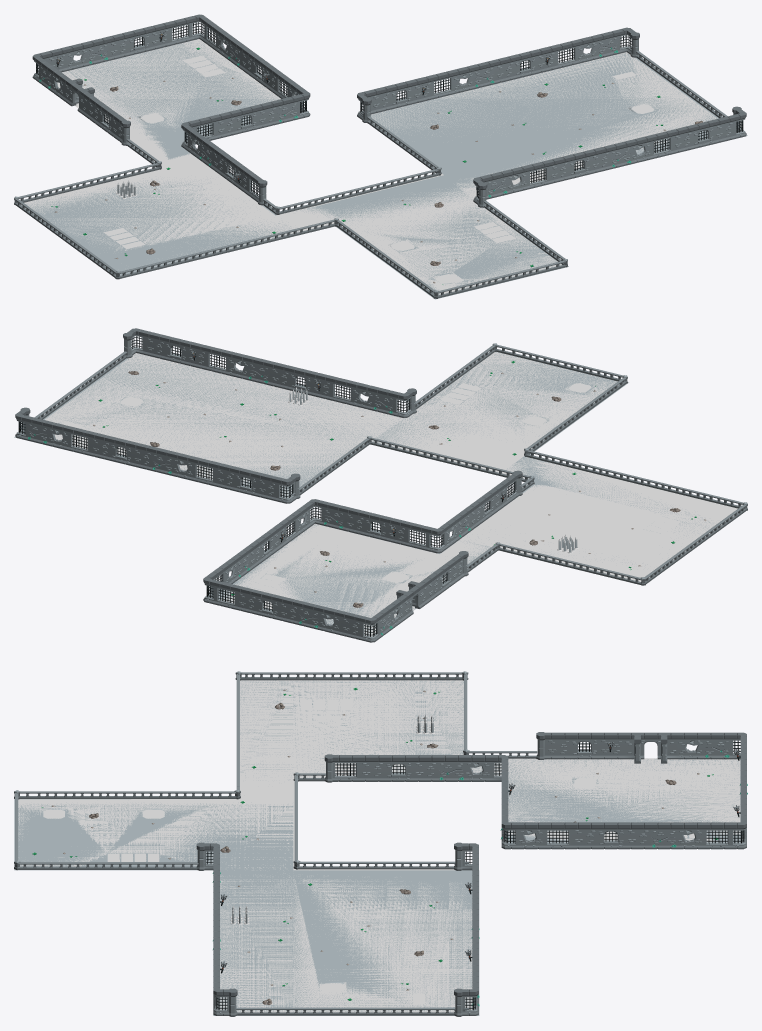
Rendered from Map_05.fbx.
The picture shows the model from 3 angles, top to bottom: view 1: azimuth 30°, elevation 25°; view 2: azimuth 150°, elevation 25°; view 3: azimuth 270°, elevation 25°; orthographic projection. The views are drawn at different scales.
Visible parts, largest first — view 1: Grounds, PlaneEnemyAI_Hide, SM_World_01_Barrier; view 2: PlaneEnemyAI_Hide, SM_World_01_Barrier, Grounds; view 3: PlaneEnemyAI_Hide, Grounds, SM_World_01_Barrier.
Part boxes in pixels (x1,y1,x2,y2): Grounds: [21, 39, 747, 299]; PlaneEnemyAI_Hide: [21, 39, 717, 294]; SM_World_01_Barrier: [14, 14, 746, 298]; PlaneEnemyAI_Hide: [45, 352, 737, 636]; SM_World_01_Barrier: [15, 328, 747, 642]; Grounds: [14, 352, 713, 636]; PlaneEnemyAI_Hide: [18, 680, 740, 1012]; Grounds: [14, 680, 740, 1015]; SM_World_01_Barrier: [14, 671, 747, 1016].
Size of what is drawn, in the model's own units: 121 by 111 by 5.03.
